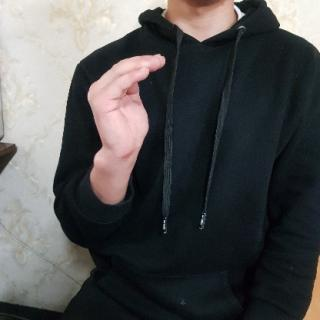HAA: (86, 50, 174, 178)
